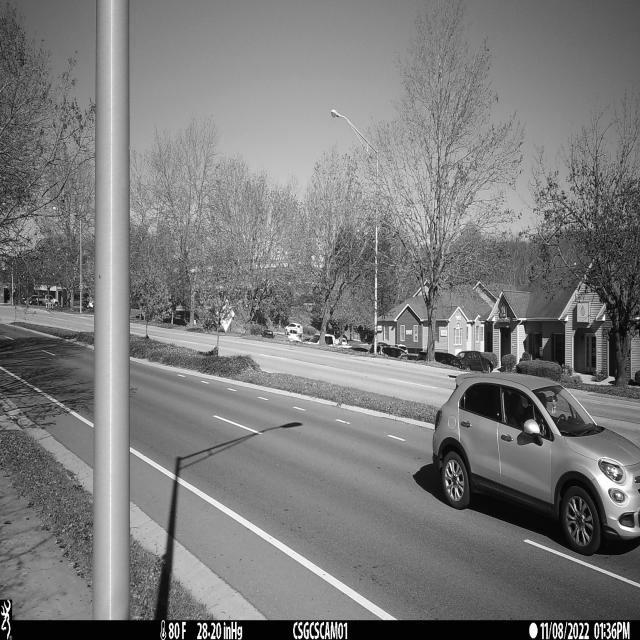SUV: (432, 373, 640, 557)
